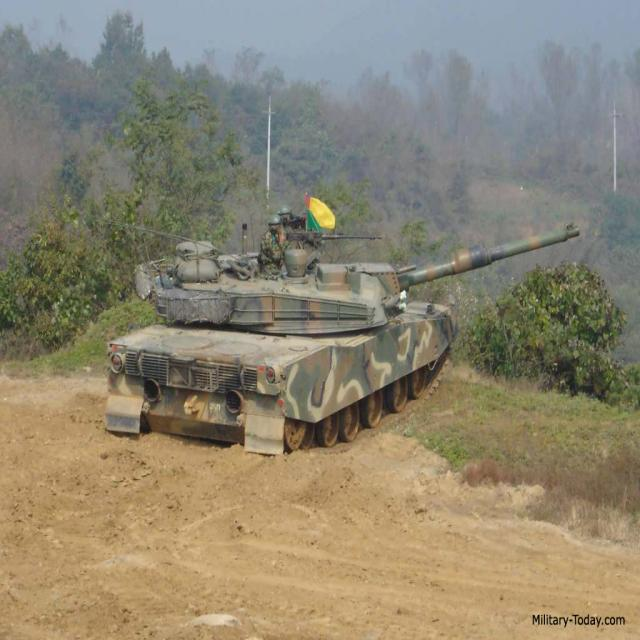Tank: (99, 170, 466, 456)
